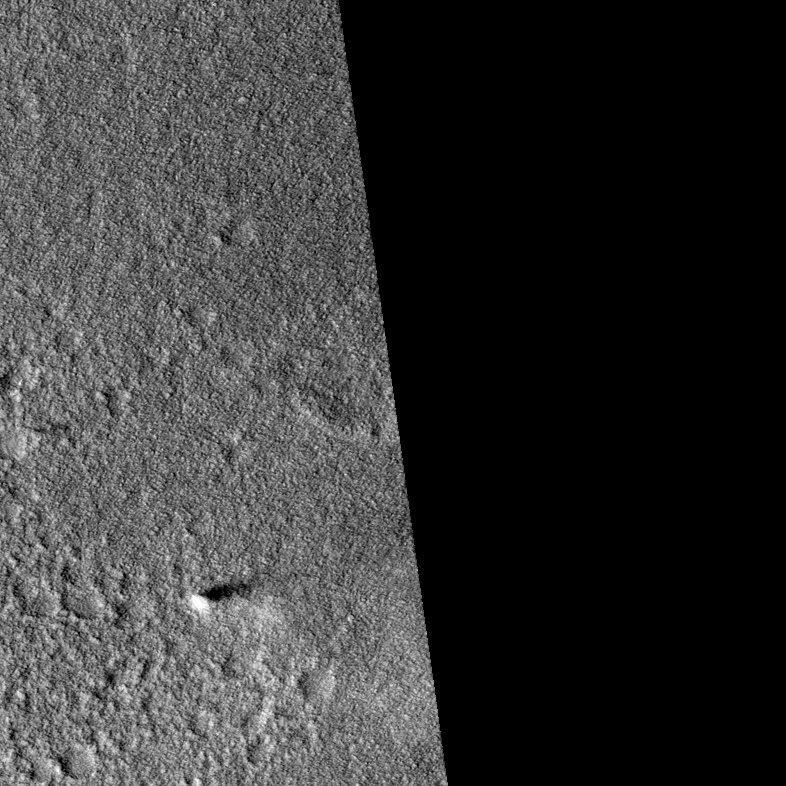dust_devil: (187, 576, 264, 618)
